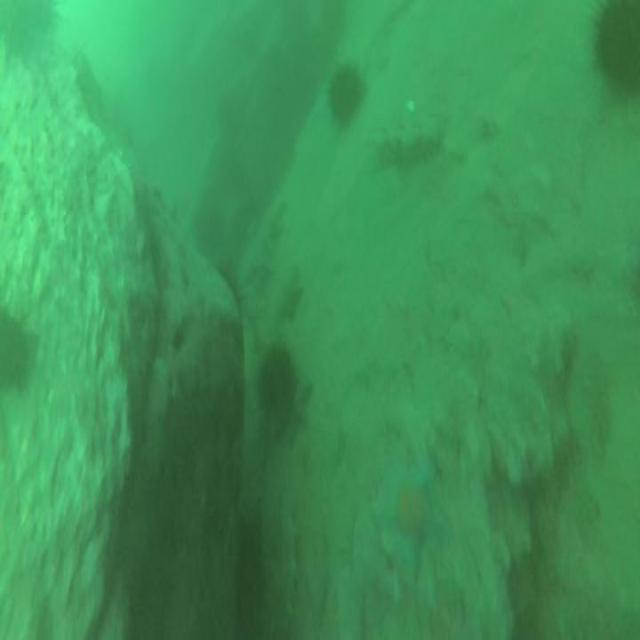echinus: (599, 3, 640, 92), (324, 64, 366, 126), (261, 349, 295, 422)
holothurian: (377, 131, 444, 171)
starfish: (370, 462, 447, 578)
